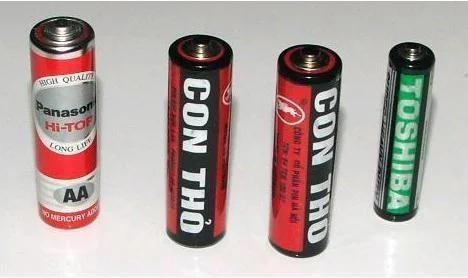AA: (266, 42, 344, 262), (28, 13, 104, 234), (164, 32, 235, 252), (371, 41, 438, 225)
